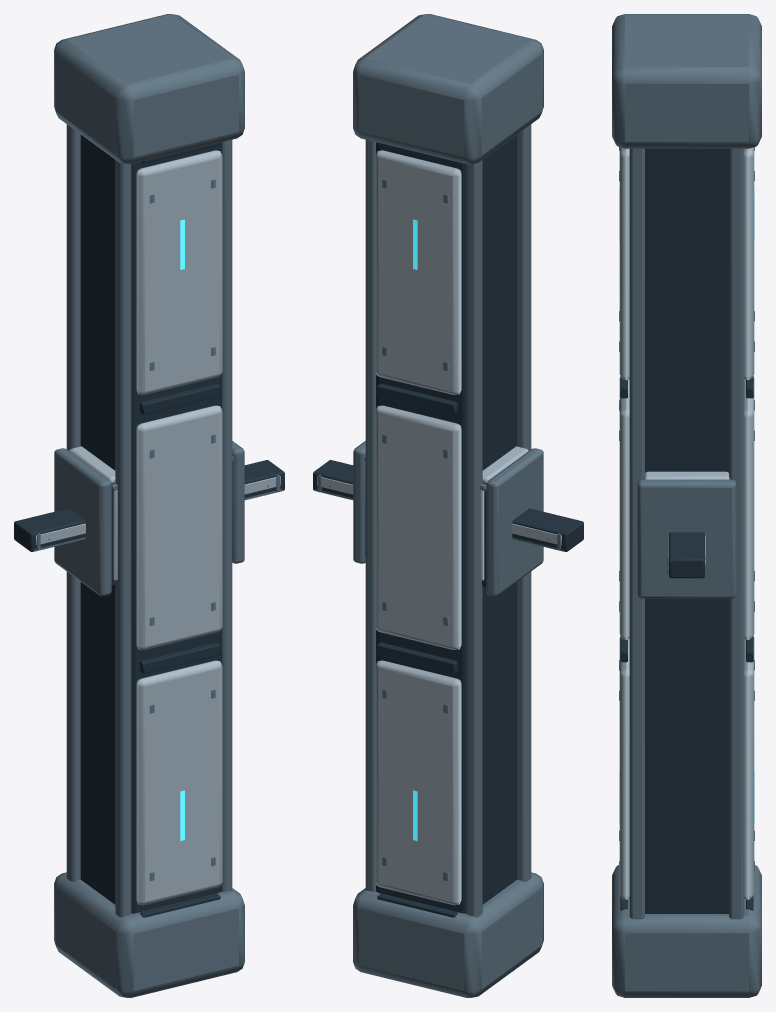
Rendered from kit-v1.glb.
3 renders of one model, left to right at view 1: azimuth 30°, elevation 25°; view 2: azimuth 150°, elevation 25°; view 3: azimuth 270°, elevation 25°, orthographic.
Parts seen in each view (by area): view 1: backdrop-spire_alloy, backdrop-spire_ceramic, backdrop-spire_graphite, service-pod_alloy, ring-beam_graphite, service-pod_ceramic, ring-beam_ceramic; view 2: backdrop-spire_alloy, backdrop-spire_ceramic, backdrop-spire_graphite, service-pod_alloy, ring-beam_graphite, service-pod_ceramic, ring-beam_ceramic; view 3: backdrop-spire_alloy, backdrop-spire_graphite, backdrop-spire_ceramic, service-pod_alloy, ring-beam_graphite, service-pod_ceramic.
Part boxes in pixels (box(x1,y1,x2,y2)): backdrop-spire_alloy: box(54, 14, 244, 997); backdrop-spire_ceramic: box(136, 150, 222, 905); backdrop-spire_graphite: box(80, 135, 221, 917); service-pod_alloy: box(54, 441, 244, 596); ring-beam_graphite: box(14, 460, 284, 551); service-pod_ceramic: box(69, 446, 117, 580); ring-beam_ceramic: box(36, 476, 280, 545); backdrop-spire_alloy: box(353, 14, 543, 997); backdrop-spire_ceramic: box(375, 150, 461, 905); backdrop-spire_graphite: box(376, 135, 517, 917); service-pod_alloy: box(353, 441, 543, 596); ring-beam_graphite: box(313, 460, 583, 551); service-pod_ceramic: box(480, 446, 528, 580); ring-beam_ceramic: box(317, 476, 561, 545); backdrop-spire_alloy: box(612, 14, 761, 997); backdrop-spire_graphite: box(620, 148, 753, 913); backdrop-spire_ceramic: box(619, 147, 754, 899); service-pod_alloy: box(637, 479, 736, 598); ring-beam_graphite: box(669, 532, 704, 578); service-pod_ceramic: box(644, 471, 729, 479).
Bounding box in the file's own units: 7 × 24 × 3.5.
